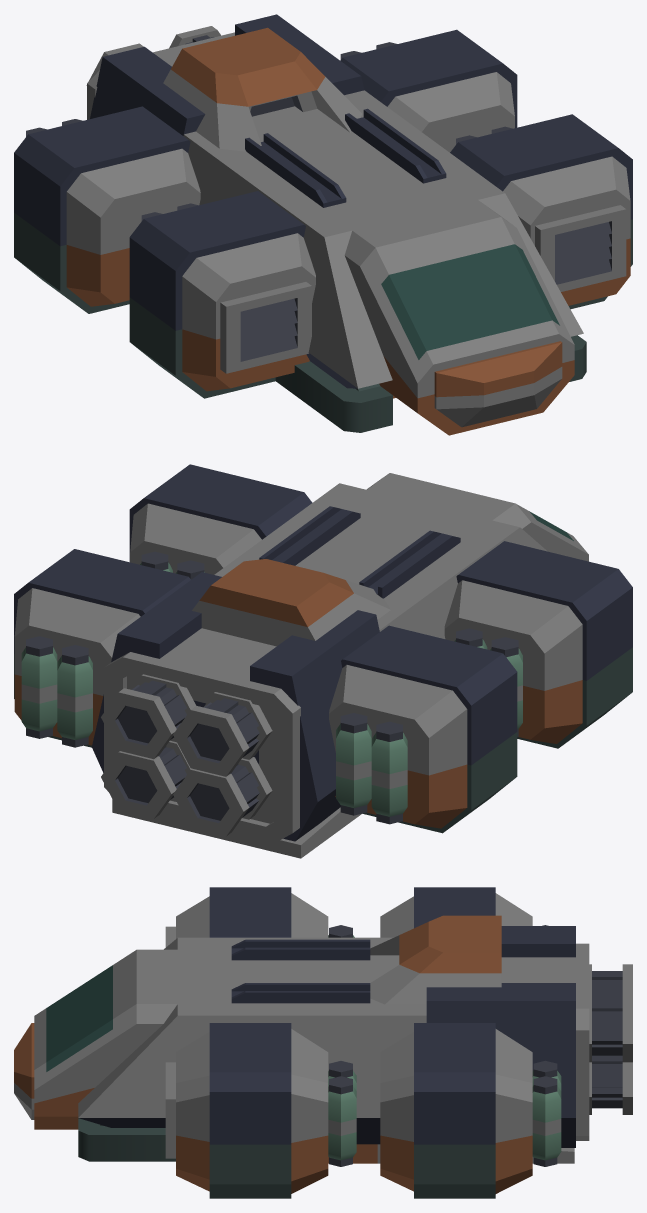
The model's file is Ship01.fbx.
3 views of the same model, one above another, from view 1: azimuth 30°, elevation 25°; view 2: azimuth 150°, elevation 25°; view 3: azimuth 270°, elevation 25° (orthographic). The views are drawn at different scales.
Visible parts, largest first — view 1: hull_body (×4), body_default, hull_front (×4), hull_cockpitWide, hull_topIntake, panel_ventSmall (×2), hull_lowerFrontPoint, detailRail_front (×2), tank_skirtEdge, panel; view 2: hull_body (×4), hull_front (×4), body_default, clipBarrel (×4), tank_doubleDetailed (×4), panel, hull_topIntake, detailRail_front (×2), hull_cockpitWide, wing_engineMiddle; view 3: body_default, hull_body (×4), hull_front (×8), hull_cockpitWide, hull_topIntake, clipBarrel (×3), detailRail_front (×2), tank_doubleDetailed (×2), tank_skirtEdge, panel, hull_lowerFrontPoint, panel_ventSmall (+1 smaller).
Part boxes in pixels (x1,y1,x2,y2): hull_body (×4): [14, 29, 632, 398]; body_default: [90, 14, 583, 388]; hull_front (×4): [66, 72, 630, 391]; hull_cockpitWide: [344, 199, 574, 435]; hull_topIntake: [163, 27, 361, 151]; panel_ventSmall (×2): [220, 205, 626, 373]; hull_lowerFrontPoint: [434, 341, 562, 427]; detailRail_front (×2): [245, 108, 446, 207]; tank_skirtEdge: [275, 361, 392, 432]; panel: [87, 32, 234, 119]; hull_body (×4): [14, 464, 632, 833]; hull_front (×4): [14, 503, 582, 828]; body_default: [92, 483, 547, 841]; clipBarrel (×4): [101, 674, 272, 836]; tank_doubleDetailed (×4): [21, 551, 522, 824]; panel: [104, 652, 300, 843]; hull_topIntake: [192, 559, 390, 646]; detailRail_front (×2): [259, 506, 460, 598]; hull_cockpitWide: [366, 473, 588, 561]; wing_engineMiddle: [112, 799, 361, 858]; body_default: [78, 926, 575, 1147]; hull_body (×4): [209, 887, 495, 1198]; hull_front (×8): [176, 893, 532, 1193]; hull_cockpitWide: [34, 949, 180, 1129]; hull_topIntake: [370, 915, 501, 1004]; clipBarrel (×3): [589, 964, 632, 1114]; detailRail_front (×2): [231, 939, 370, 1003]; tank_doubleDetailed (×2): [328, 1060, 561, 1166]; tank_skirtEdge: [78, 1118, 175, 1161]; panel: [574, 943, 589, 1140]; hull_lowerFrontPoint: [14, 1023, 34, 1119]; panel_ventSmall: [165, 1062, 175, 1158].
Bounding box in the file's own units: 32 × 15 × 42.4.
